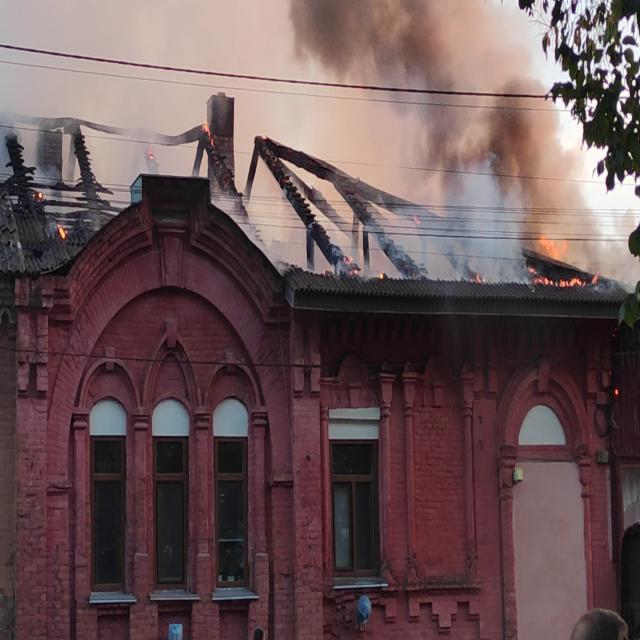fire: (522, 225, 601, 292)
smoke: (290, 0, 544, 212)
